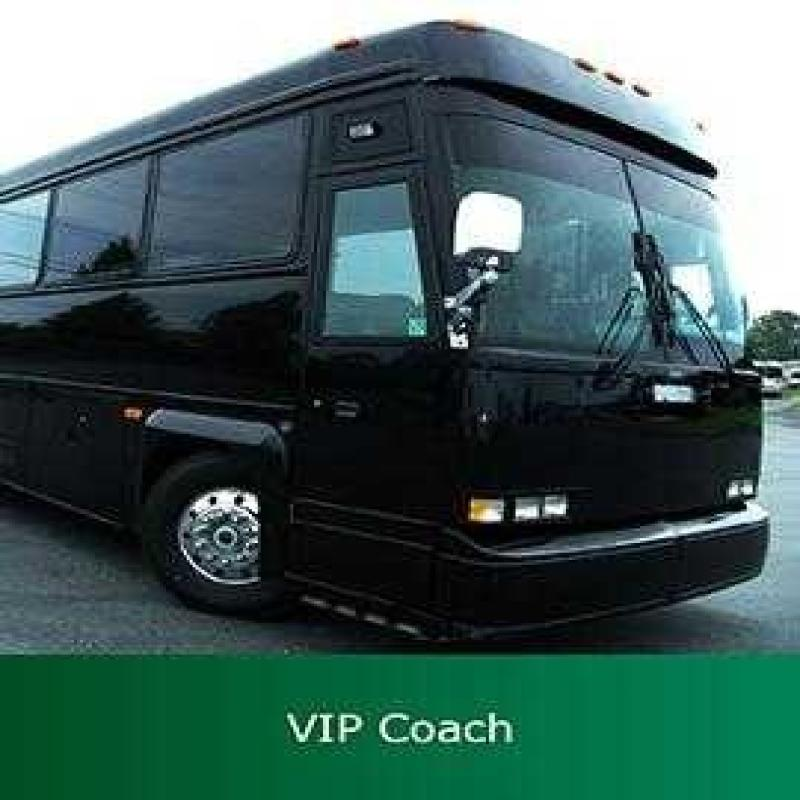bus: (7, 18, 777, 665)
